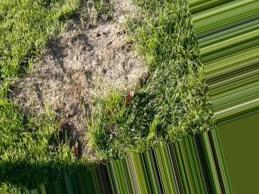patch: (63, 47, 138, 91), (43, 100, 105, 129), (90, 21, 163, 42), (20, 55, 51, 92)
